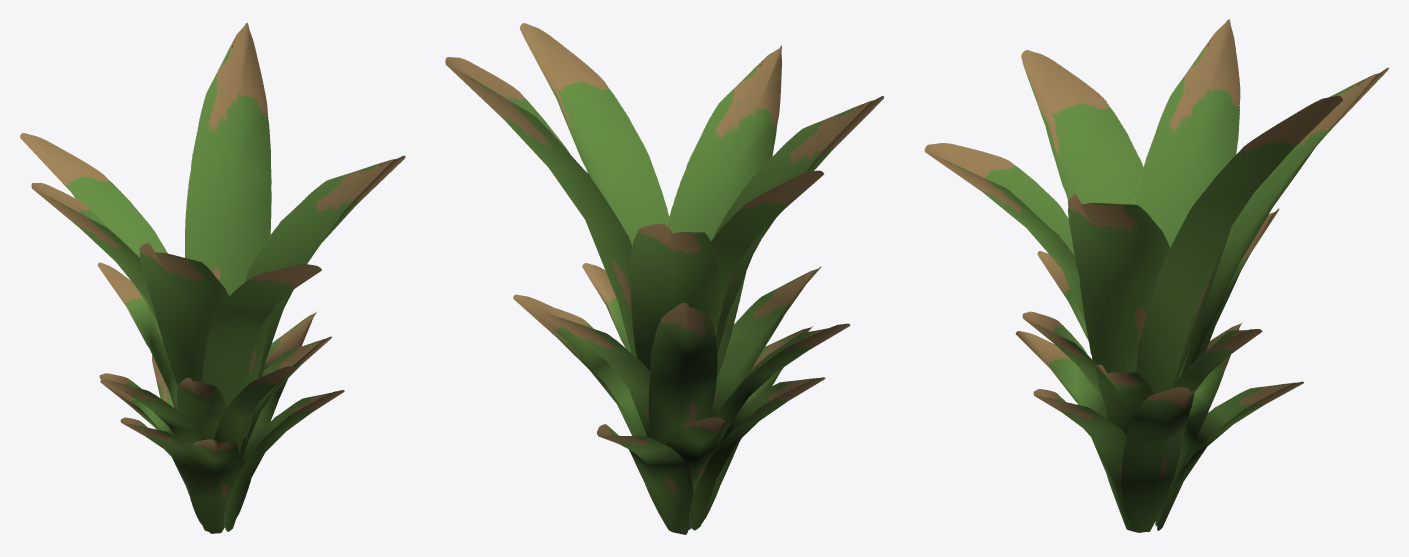
Rendered from Plant_1_Big__go_ruins.glb.
3 renders of one model, left to right at view 1: azimuth 30°, elevation 25°; view 2: azimuth 150°, elevation 25°; view 3: azimuth 270°, elevation 25°, orthographic. The views are drawn at different scales.
Visible parts, largest first — view 1: Plant_1_Big; view 2: Plant_1_Big; view 3: Plant_1_Big.
Boxes of the visible parts, x1,y1,x2,y2 form: Plant_1_Big: [20, 22, 405, 533]; Plant_1_Big: [445, 23, 883, 534]; Plant_1_Big: [924, 19, 1388, 532].
Size of the model in its own units: 1.81 by 2.35 by 1.95.
1 material, 1 textured.
